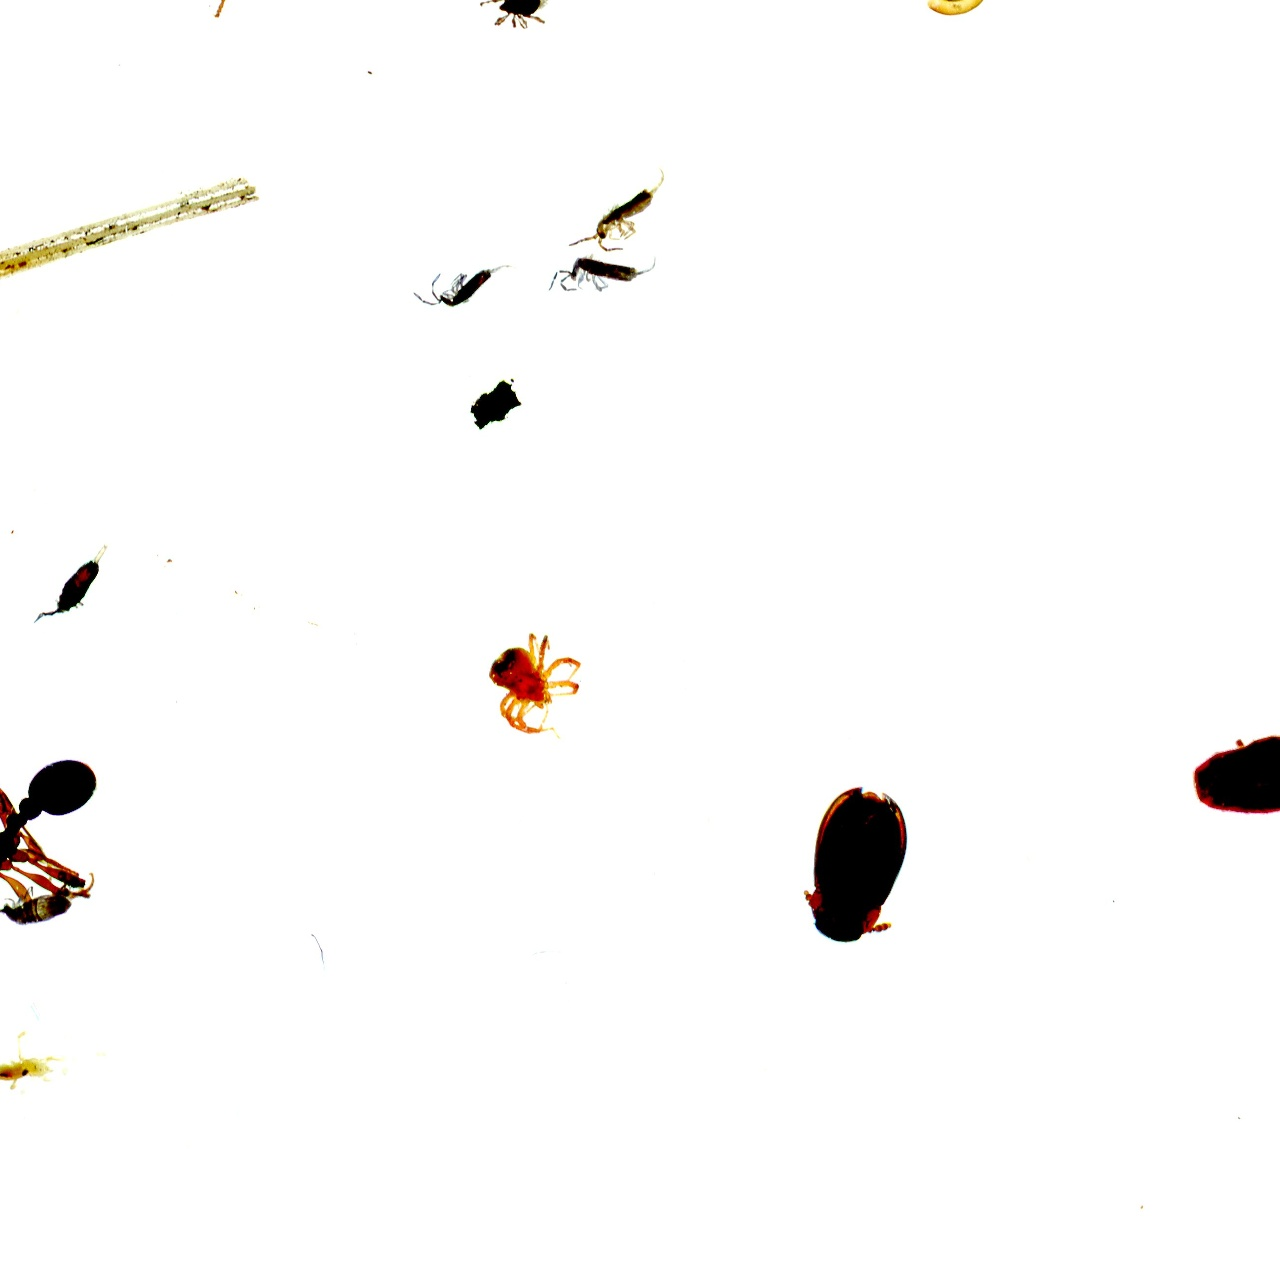arthropod: (0, 669, 162, 1028), (797, 778, 914, 947), (27, 503, 138, 647), (483, 625, 588, 738), (565, 159, 667, 254), (1184, 730, 1280, 829), (409, 256, 517, 308), (546, 253, 661, 298), (0, 1028, 70, 1097), (0, 878, 81, 933), (474, 0, 553, 32), (919, 0, 996, 22)
